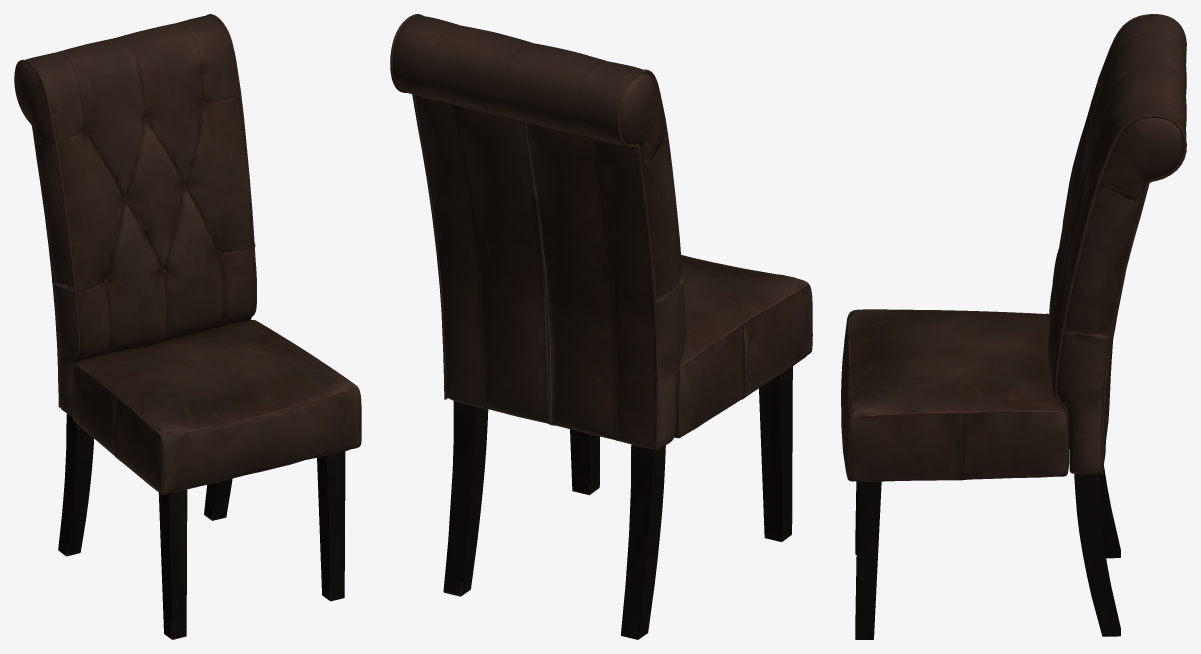
File: dining_chair_02.glb
3 renders of one model, left to right at view 1: azimuth 30°, elevation 25°; view 2: azimuth 150°, elevation 25°; view 3: azimuth 270°, elevation 25°, orthographic. The views are drawn at different scales.
Visible parts, largest first — view 1: dining_chair_02; view 2: dining_chair_02; view 3: dining_chair_02.
Part boxes in pixels (box(x1,y1,x2,y2)): dining_chair_02: box(14, 14, 361, 639); dining_chair_02: box(390, 14, 812, 639); dining_chair_02: box(841, 14, 1186, 639).
Bounding box in the file's own units: 0.4336 × 0.9733 × 0.5764.
1 material, 1 textured.
